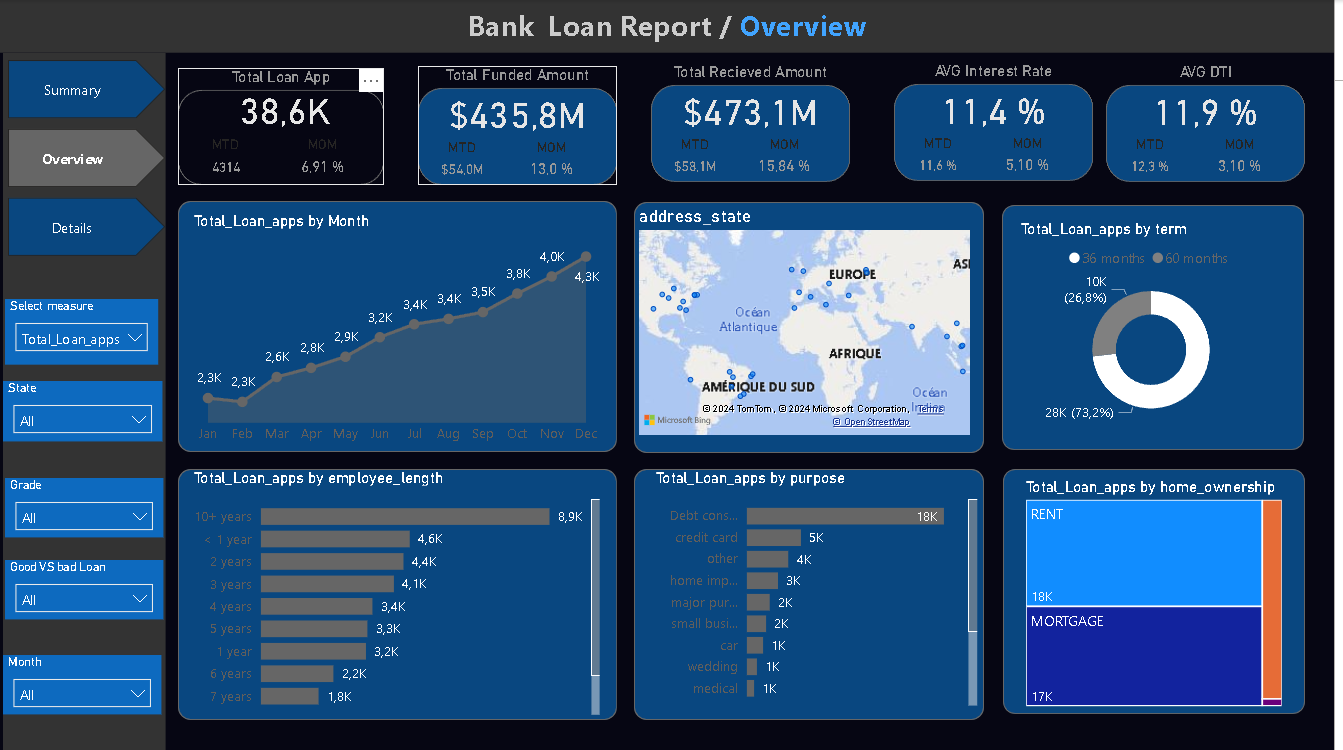

The dashboard page shown, as its layout file describes it:
{"tool":"powerbi","page":{"name":"Overview","canvas":[1280,720],"ordinal":1},"visuals":[{"type":"shape","box":[0,0,1280,50.6],"z":0},{"type":"shape","title":"AVG Interest Rate","box":[857.8,59.5,191.3,114.3],"z":0,"group":"g5"},{"type":"shape","title":"Total Recieved Amount ","box":[624.6,60.4,191.3,114.3],"z":0,"group":"g3"},{"type":"shape","title":"AVG DTI","box":[1061.5,60.4,191.3,114.3],"z":0,"group":"g4"},{"type":"shape","title":"Total Funded Amount","box":[401.2,63.4,191.3,114.3],"z":0,"group":"g2"},{"type":"shape","title":"Total Loan App","box":[170.9,64.8,197.8,112.3],"z":0,"group":"g1"},{"type":"shape","box":[2.9,50.9,156.4,668.8],"z":1000},{"type":"card","fields":{"Values":["bank-data.Total_Loan_apps"]},"box":[181.4,77,185.4,52.6],"z":1000,"group":"g1"},{"type":"card","fields":{"Values":["bank-data.YTD AVG¨_Rate"]},"box":[868.3,79.1,169.2,50.1],"z":1000,"group":"g5"},{"type":"card","fields":{"Values":["bank-data.YTM Total_Amount_Recived"]},"box":[635.1,80,169.2,50.1],"z":1000,"group":"g3"},{"type":"card","fields":{"Values":["bank-data.YTD AVG¨_DTI"]},"box":[1072,80,169.2,50.1],"z":1000,"group":"g4"},{"type":"card","fields":{"Values":["bank-data.Total _funded_Amount"]},"box":[411.7,83,169.2,50.1],"z":1000,"group":"g2"},{"type":"textbox","box":[408.5,0,463,50.6],"z":2000},{"type":"card","title":"MTD ","fields":{"Values":["bank-data.MTD AVG_Rate"]},"box":[868.3,129.1,64.1,44.6],"z":2000,"group":"g5"},{"type":"card","title":"MTD ","fields":{"Values":["bank-data.MTD Loan_App"]},"box":[181.4,129.6,70.2,46.9],"z":2000,"group":"g1"},{"type":"card","title":"MTD ","fields":{"Values":["bank-data.MTD Receved_Amount"]},"box":[635.1,130,64.1,44.6],"z":2000,"group":"g3"},{"type":"card","title":"MTD ","fields":{"Values":["bank-data.MTD AVG_DTI"]},"box":[1072,130,64.1,44.6],"z":2000,"group":"g4"},{"type":"card","title":"MTD ","fields":{"Values":["bank-data.MTD Fundden_AMount"]},"box":[411.7,133,64.1,44.6],"z":2000,"group":"g2"},{"type":"group","id":"g1","title":"Group 1","box":[170.9,64.8,197.8,112.3],"z":3000},{"type":"card","title":"MOM","fields":{"Values":["bank-data.MOM AVG_Rate"]},"box":[953.4,129.1,64.1,44.6],"z":3000,"group":"g5"},{"type":"card","title":"MOM","fields":{"Values":["bank-data.MOM Loan_App"]},"box":[274.6,129.6,70.2,46.9],"z":3000,"group":"g1"},{"type":"card","title":"MOM","fields":{"Values":["bank-data.MOM Total_Receved_amount"]},"box":[720.2,130,64.1,44.6],"z":3000,"group":"g3"},{"type":"card","title":"MOM","fields":{"Values":["bank-data.MOM AVG_DTI"]},"box":[1157.1,130,64.1,44.6],"z":3000,"group":"g4"},{"type":"card","title":"MOM","fields":{"Values":["bank-data.MOM Total_Funded_amount"]},"box":[496.8,133,64.1,44.6],"z":3000,"group":"g2"},{"type":"group","id":"g2","title":"Group 1","box":[401.2,63.4,190.8,114.3],"z":4000},{"type":"group","id":"g3","title":"Group 1","box":[624.6,60.4,190.9,113.2],"z":5000},{"type":"group","id":"g4","title":"Group 1","box":[1061.5,60.4,190.3,113.8],"z":6000},{"type":"group","id":"g5","title":"Group 1","box":[857.8,59.5,190.9,114.2],"z":7000},{"type":"shape","box":[170.8,192.9,421.2,240.8],"z":8000},{"type":"slicer","title":"State","fields":{"Values":["bank-data.address_state"]},"box":[2.9,365.6,152.6,57.6],"z":9000},{"type":"slicer","title":"Grade","fields":{"Values":["bank-data.grade"]},"box":[4.8,458.7,151.6,56.6],"z":10000},{"type":"slicer","title":"Good VS bad Loan","fields":{"Values":["bank-data.Good vs Bad Loan"]},"box":[4.8,537.3,151.6,56.6],"z":11000},{"type":"slicer","title":"Month","fields":{"Values":["Date_Table.Month"]},"box":[2.9,628.5,151.6,56.6],"z":12000},{"type":"areaChart","fields":{"Y":["bank-data.Total_Loan_apps"],"Category":["Date_Table.Month"]},"box":[181.3,203.4,399.2,230.3],"z":13000},{"type":"slicer","title":"Select measure","fields":{"Values":["select Measure.select Measure"]},"box":[4.8,286.9,146.8,63.3],"z":14000},{"type":"shape","box":[608.3,193.8,335.8,240.8],"z":15000},{"type":"map","fields":{"Category":["bank-data.address_state"]},"box":[608.3,196.7,327.2,226.4],"z":16000},{"type":"shape","box":[961.4,196.7,289.8,235.1],"z":17000},{"type":"donutChart","fields":{"Y":["bank-data.Total_Loan_apps"],"Category":["bank-data.term"]},"box":[974.9,211.1,259.1,204.4],"z":18000},{"type":"shape","box":[170.8,450,421.2,240.8],"z":19000},{"type":"barChart","fields":{"Y":["bank-data.Total_Loan_apps"],"Category":["bank-data.emp_length"]},"box":[181.3,450,399.2,240.8],"z":20000},{"type":"shape","box":[608.3,450,335.8,240.8],"z":21000},{"type":"barChart","fields":{"Y":["bank-data.Total_Loan_apps"],"Category":["bank-data.purpose"]},"box":[624.6,450,317.6,232.2],"z":22000},{"type":"shape","box":[962.4,450,289.8,235.1],"z":23000},{"type":"treemap","fields":{"Values":["bank-data.Total_Loan_apps"],"Group":["bank-data.home_ownership"]},"box":[979.7,458.7,255.2,223.6],"z":24000},{"type":"pageNavigator","box":[7.7,57.6,151.6,188.1],"z":25000}]}

Visuals, with their boxes in screenshot pixels (x1, y1, x2, y2), scaled from the page's 1280x720 canvas onto the 1343x750 screenshot:
shape: detection(0, 0, 1342, 53)
"AVG Interest Rate" shape: detection(900, 62, 1101, 181)
"Total Recieved Amount " shape: detection(655, 63, 856, 182)
"AVG DTI" shape: detection(1114, 63, 1314, 182)
"Total Funded Amount" shape: detection(421, 66, 622, 185)
"Total Loan App" shape: detection(179, 68, 387, 184)
shape: detection(3, 53, 167, 749)
card - bank-data.Total_Loan_apps: detection(190, 80, 385, 135)
card - bank-data.YTD AVG¨_Rate: detection(911, 82, 1089, 135)
card - bank-data.YTM Total_Amount_Recived: detection(666, 83, 844, 136)
card - bank-data.YTD AVG¨_DTI: detection(1125, 83, 1302, 136)
card - bank-data.Total _funded_Amount: detection(432, 86, 609, 139)
textbox: detection(429, 0, 914, 53)
"MTD " card: detection(911, 134, 978, 181)
"MTD " card: detection(190, 135, 264, 184)
"MTD " card: detection(666, 135, 734, 182)
"MTD " card: detection(1125, 135, 1192, 182)
"MTD " card: detection(432, 139, 499, 185)
"Group 1" group: detection(179, 68, 387, 184)
"MOM" card: detection(1000, 134, 1068, 181)
"MOM" card: detection(288, 135, 362, 184)
"MOM" card: detection(756, 135, 823, 182)
"MOM" card: detection(1214, 135, 1281, 182)
"MOM" card: detection(521, 139, 589, 185)
"Group 1" group: detection(421, 66, 621, 185)
"Group 1" group: detection(655, 63, 856, 181)
"Group 1" group: detection(1114, 63, 1313, 181)
"Group 1" group: detection(900, 62, 1100, 181)
shape: detection(179, 201, 621, 452)
"State" slicer: detection(3, 381, 163, 441)
"Grade" slicer: detection(5, 478, 164, 537)
"Good VS bad Loan" slicer: detection(5, 560, 164, 619)
"Month" slicer: detection(3, 655, 162, 714)
areaChart - bank-data.Total_Loan_apps x Date_Table.Month: detection(190, 212, 609, 452)
"Select measure" slicer: detection(5, 299, 159, 365)
shape: detection(638, 202, 991, 453)
map - bank-data.address_state: detection(638, 205, 982, 441)
shape: detection(1009, 205, 1313, 450)
donutChart - bank-data.Total_Loan_apps x bank-data.term: detection(1023, 220, 1295, 433)
shape: detection(179, 469, 621, 720)
barChart - bank-data.Total_Loan_apps x bank-data.emp_length: detection(190, 469, 609, 720)
shape: detection(638, 469, 991, 720)
barChart - bank-data.Total_Loan_apps x bank-data.purpose: detection(655, 469, 989, 711)
shape: detection(1010, 469, 1314, 714)
treemap - bank-data.Total_Loan_apps x bank-data.home_ownership: detection(1028, 478, 1296, 711)
pageNavigator: detection(8, 60, 167, 256)
